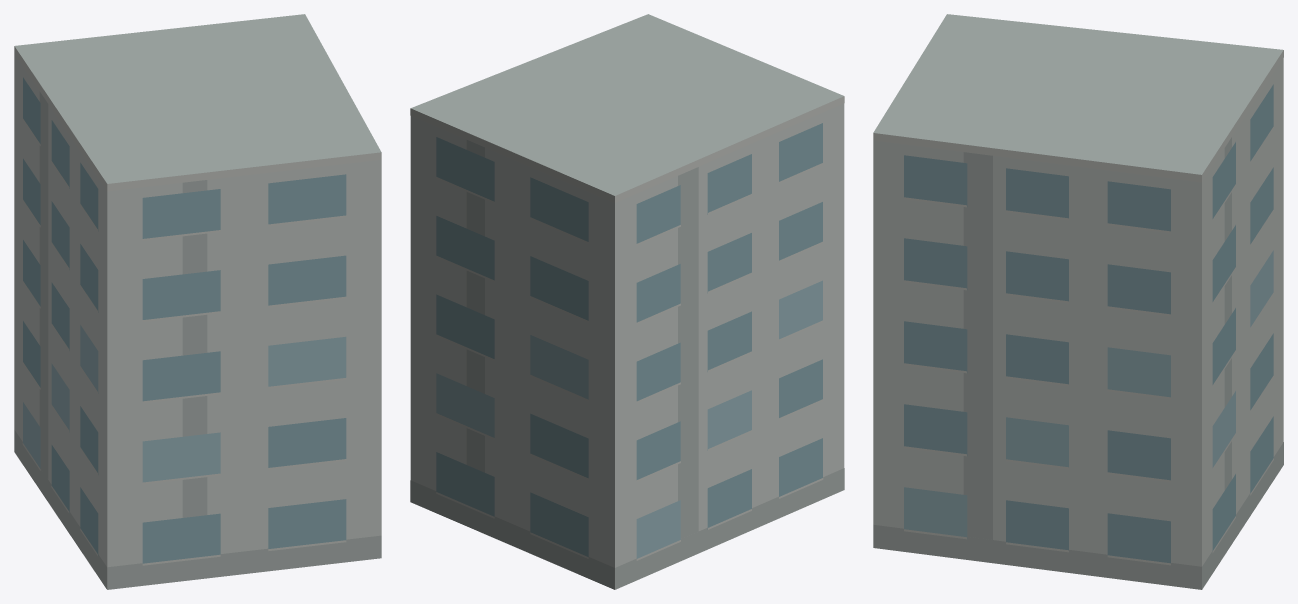
File: survey-upis-32886416.glb
3 renders of one model, left to right at view 1: azimuth 30°, elevation 25°; view 2: azimuth 150°, elevation 25°; view 3: azimuth 270°, elevation 25°, orthographic. The views are drawn at different scales.
Parts seen in each view (by area): view 1: survey-upis-32886416.tmp; view 2: survey-upis-32886416.tmp; view 3: survey-upis-32886416.tmp.
Boxes of the visible parts, left/top/right/bottom form: survey-upis-32886416.tmp: left=14, top=14, right=381, bottom=589; survey-upis-32886416.tmp: left=410, top=14, right=844, bottom=589; survey-upis-32886416.tmp: left=873, top=14, right=1283, bottom=589.
Bounding box in the file's own units: 11.03 × 13.25 × 11.89.
